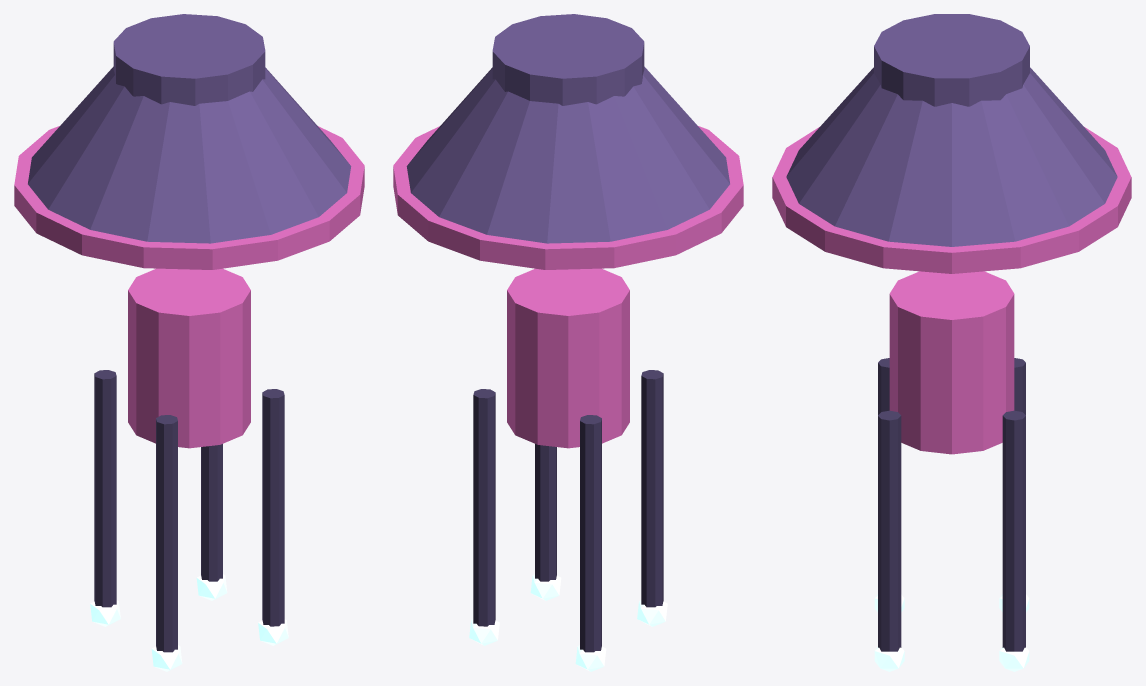
Rendered from neon-jellyfish.glb.
3 views of the same model, side by side, from view 1: azimuth 30°, elevation 25°; view 2: azimuth 150°, elevation 25°; view 3: azimuth 270°, elevation 25° (orthographic).
Visible parts, largest first — view 1: JellyCap, OralArms, ScallopRim, JellyCapTop, FX_Tentacle_3, FX_Tentacle_2, FX_Tentacle_1, FX_Tentacle_4, Tip_2, Tip_3, Tip_4, Tip_1; view 2: JellyCap, OralArms, ScallopRim, JellyCapTop, FX_Tentacle_1, FX_Tentacle_4, FX_Tentacle_3, FX_Tentacle_2, Tip_1, Tip_4, Tip_2, Tip_3; view 3: JellyCap, OralArms, ScallopRim, JellyCapTop, FX_Tentacle_2, FX_Tentacle_4, FX_Tentacle_1, FX_Tentacle_3, Tip_2, Tip_4.
Part boxes in pixels (<box>): JellyCap: <box>28,66,351,243</box>; OralArms: <box>128,268,250,448</box>; ScallopRim: <box>14,126,364,269</box>; JellyCapTop: <box>113,14,265,105</box>; FX_Tentacle_3: <box>94,370,116,607</box>; FX_Tentacle_2: <box>262,389,284,626</box>; FX_Tentacle_1: <box>156,415,177,652</box>; FX_Tentacle_4: <box>201,444,222,581</box>; Tip_2: <box>258,619,288,645</box>; Tip_3: <box>90,600,120,626</box>; Tip_4: <box>196,574,227,600</box>; Tip_1: <box>151,645,182,671</box>; JellyCap: <box>406,66,729,243</box>; OralArms: <box>507,268,629,448</box>; ScallopRim: <box>393,126,743,269</box>; JellyCapTop: <box>492,14,644,105</box>; FX_Tentacle_1: <box>641,370,663,607</box>; FX_Tentacle_4: <box>473,389,495,626</box>; FX_Tentacle_3: <box>580,415,601,652</box>; FX_Tentacle_2: <box>535,444,556,581</box>; Tip_1: <box>637,600,667,626</box>; Tip_4: <box>469,619,499,645</box>; Tip_2: <box>530,574,561,600</box>; Tip_3: <box>575,645,606,671</box>; JellyCap: <box>786,67,1117,246</box>; OralArms: <box>889,271,1014,454</box>; ScallopRim: <box>772,127,1131,273</box>; JellyCapTop: <box>874,14,1029,106</box>; FX_Tentacle_2: <box>878,410,901,651</box>; FX_Tentacle_4: <box>1002,410,1025,651</box>; FX_Tentacle_1: <box>878,358,889,414</box>; FX_Tentacle_3: <box>1014,358,1025,414</box>; Tip_2: <box>874,647,904,671</box>; Tip_4: <box>999,647,1029,671</box>.
Bounding box in the file's own units: 0.92 × 1.7 × 0.92.
